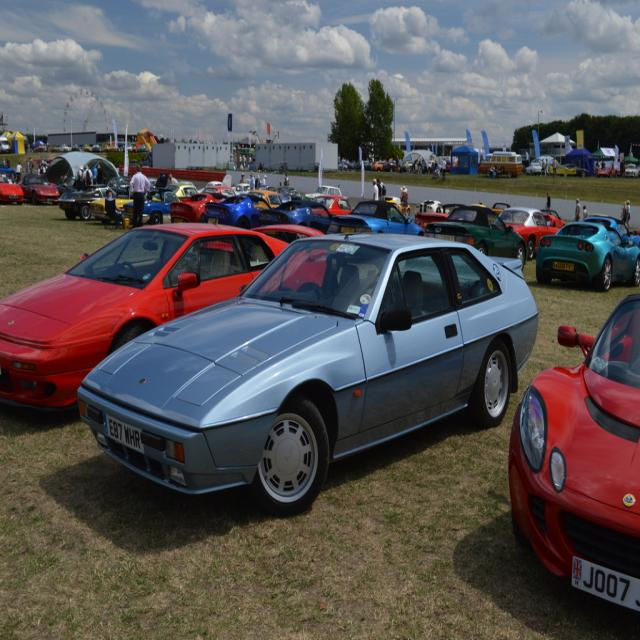car: (76, 233, 540, 516)
